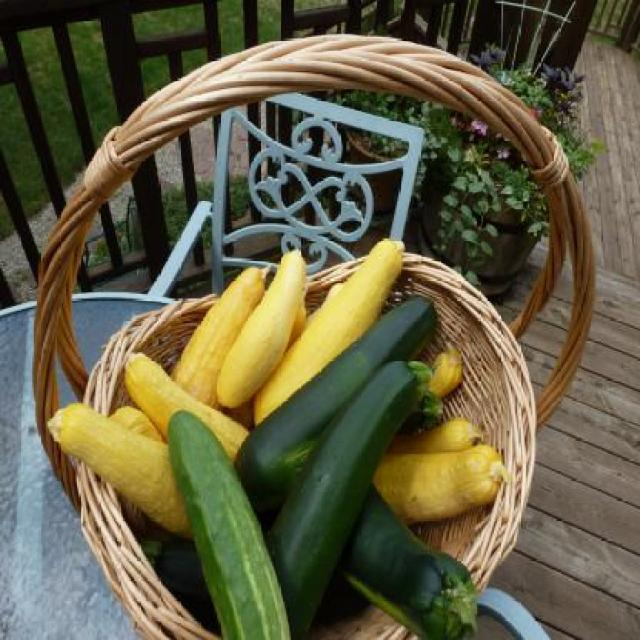Zucchini: (249, 239, 408, 427), (165, 404, 286, 638), (332, 481, 481, 640), (48, 406, 200, 542), (162, 262, 278, 413), (214, 243, 311, 414), (119, 350, 252, 470), (373, 442, 509, 524), (60, 395, 160, 453), (384, 418, 486, 458), (426, 341, 468, 394)
